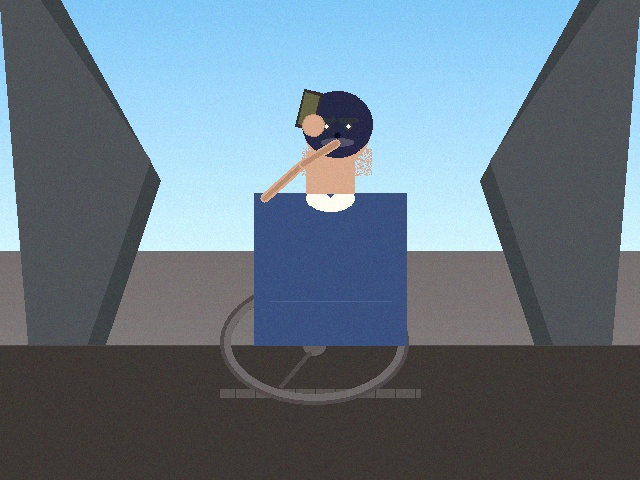phone_usage: (292, 83, 326, 137)
